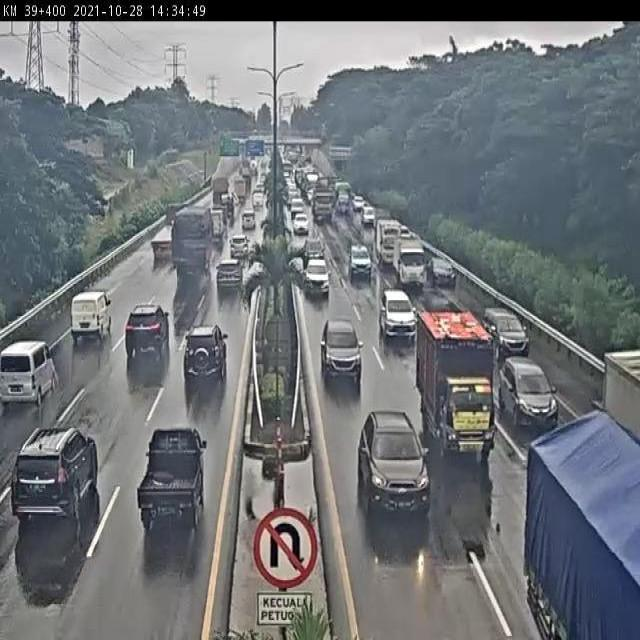big truck: (170, 208, 215, 279)
car: (10, 421, 100, 524), (355, 405, 430, 515), (136, 421, 209, 531), (500, 353, 560, 424), (0, 341, 55, 404), (320, 315, 364, 381), (482, 301, 532, 359), (182, 322, 230, 382), (122, 297, 172, 353), (380, 286, 421, 338), (71, 291, 113, 340), (302, 255, 332, 300), (427, 254, 458, 290), (348, 242, 373, 278), (216, 256, 245, 287), (302, 235, 327, 265), (229, 232, 252, 255)
small truck: (414, 305, 500, 455), (393, 232, 427, 288), (375, 213, 405, 266)
